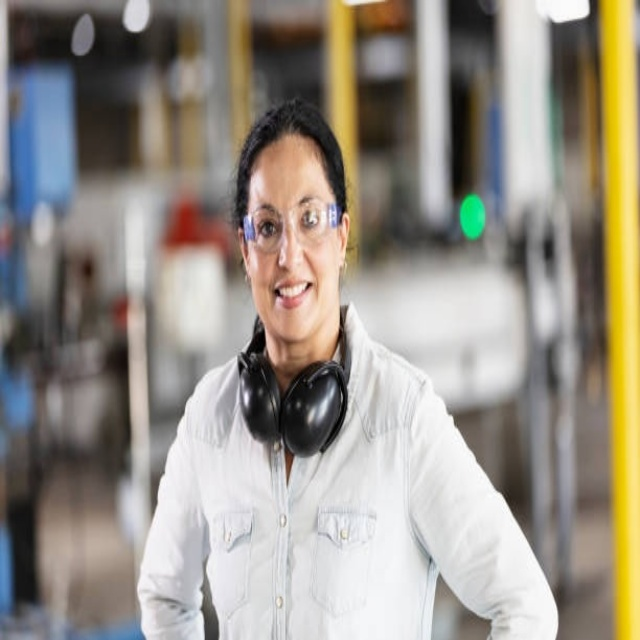Gafas: (241, 201, 343, 252)
Sin_mascara: (266, 267, 317, 321)
